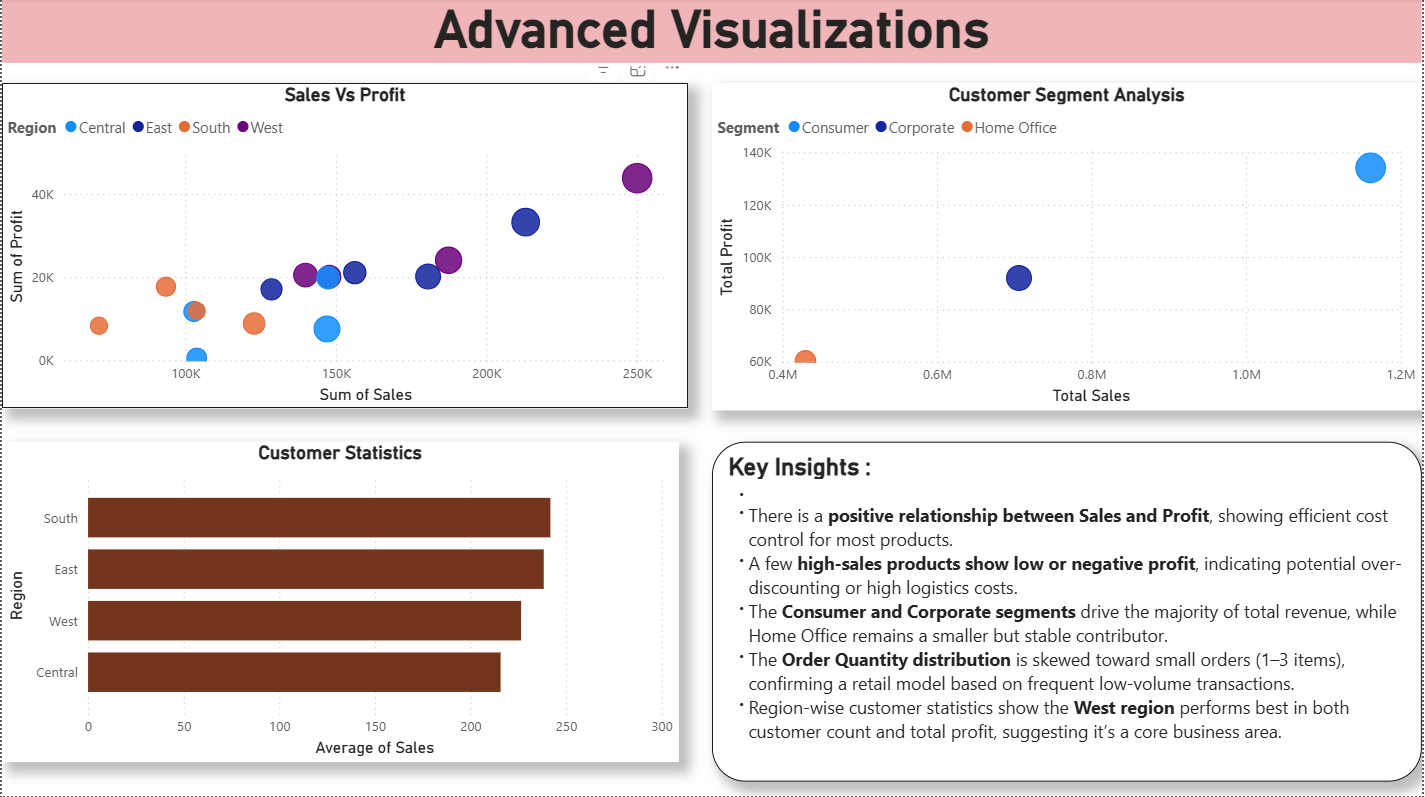

What the dashboard file says about the page in this screenshot:
{"tool":"powerbi","page":{"name":"Advanced Visualizations","canvas":[1280,720],"ordinal":1},"visuals":[{"type":"clusteredBarChart","title":"Customer Statistics","fields":{"Category":["Orders.Region"],"Y":["Avg(Orders.Sales)"]},"box":[0,400,610,288.8],"z":0},{"type":"scatterChart","title":"Sales Vs Profit","fields":{"X":["Sum(Orders.Sales)"],"Y":["Sum(Orders.Profit)"],"Series":["Orders.Region"],"Size":["Orders.Total Orders"],"Category":["Orders.Order Year"]},"box":[0,76.2,618.8,293.8],"z":1000},{"type":"scatterChart","title":"Customer Segment Analysis","fields":{"X":["Orders.Total Sales"],"Y":["Orders.Total Profit"],"Series":["Orders.Segment"],"Size":["Orders.Total Profit"]},"box":[640,76.2,640,295],"z":2000},{"type":"textbox","title":"Advanced Visualizations","box":[0,0,1280,61.2],"z":3000},{"type":"textbox","title":"Key Insights :","box":[640,400,640,306.2],"z":4000}]}

Visuals, with their boxes in screenshot pixels (x1, y1, x2, y2), scaled from the page's 1280x720 canvas onto the 1425x797 screenshot:
"Customer Statistics" clusteredBarChart: [left=0, top=443, right=679, bottom=762]
"Sales Vs Profit" scatterChart: [left=0, top=84, right=689, bottom=410]
"Customer Segment Analysis" scatterChart: [left=712, top=84, right=1424, bottom=411]
"Advanced Visualizations" textbox: [left=0, top=0, right=1424, bottom=68]
"Key Insights :" textbox: [left=712, top=443, right=1424, bottom=782]
